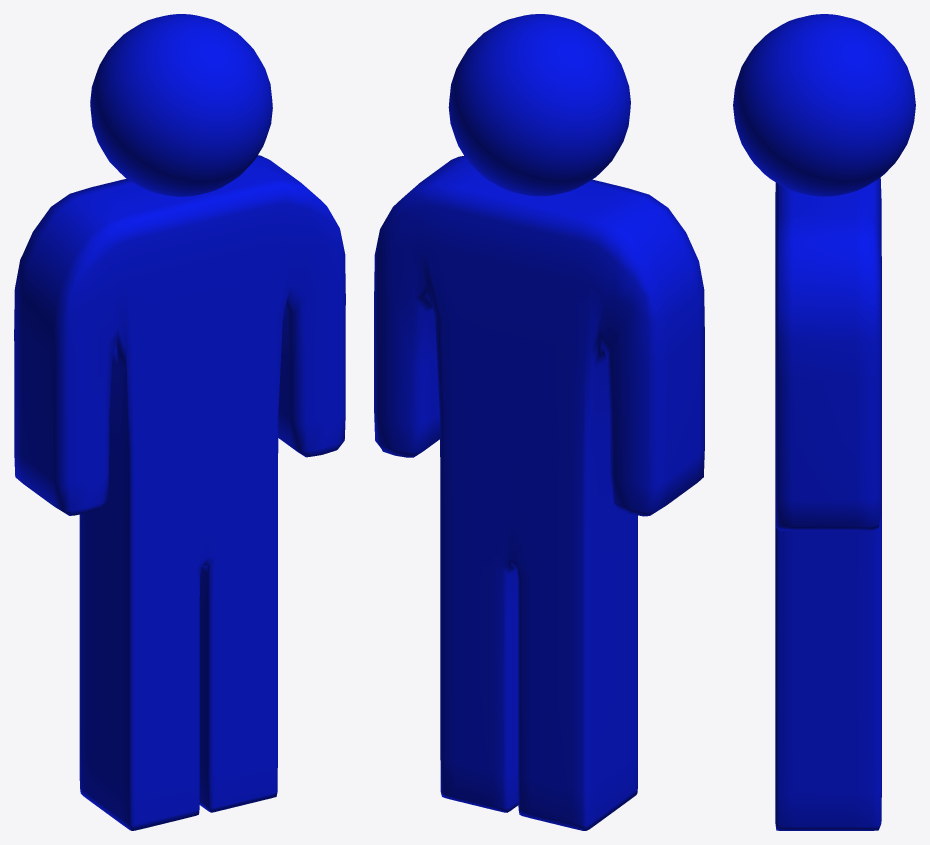
File: SM_HumanScaleReference.fbx
3 renders of one model, left to right at view 1: azimuth 30°, elevation 25°; view 2: azimuth 150°, elevation 25°; view 3: azimuth 270°, elevation 25°, orthographic.
Visible parts, largest first — view 1: Plane.143; view 2: Plane.143; view 3: Plane.143.
Boxes of the visible parts, box(x1,y1,x2,y2) form: Plane.143: box(14, 14, 345, 830); Plane.143: box(374, 14, 704, 830); Plane.143: box(733, 14, 915, 830).
Bounding box in the file's own units: 1.69 × 0.6544 × 0.3622.
